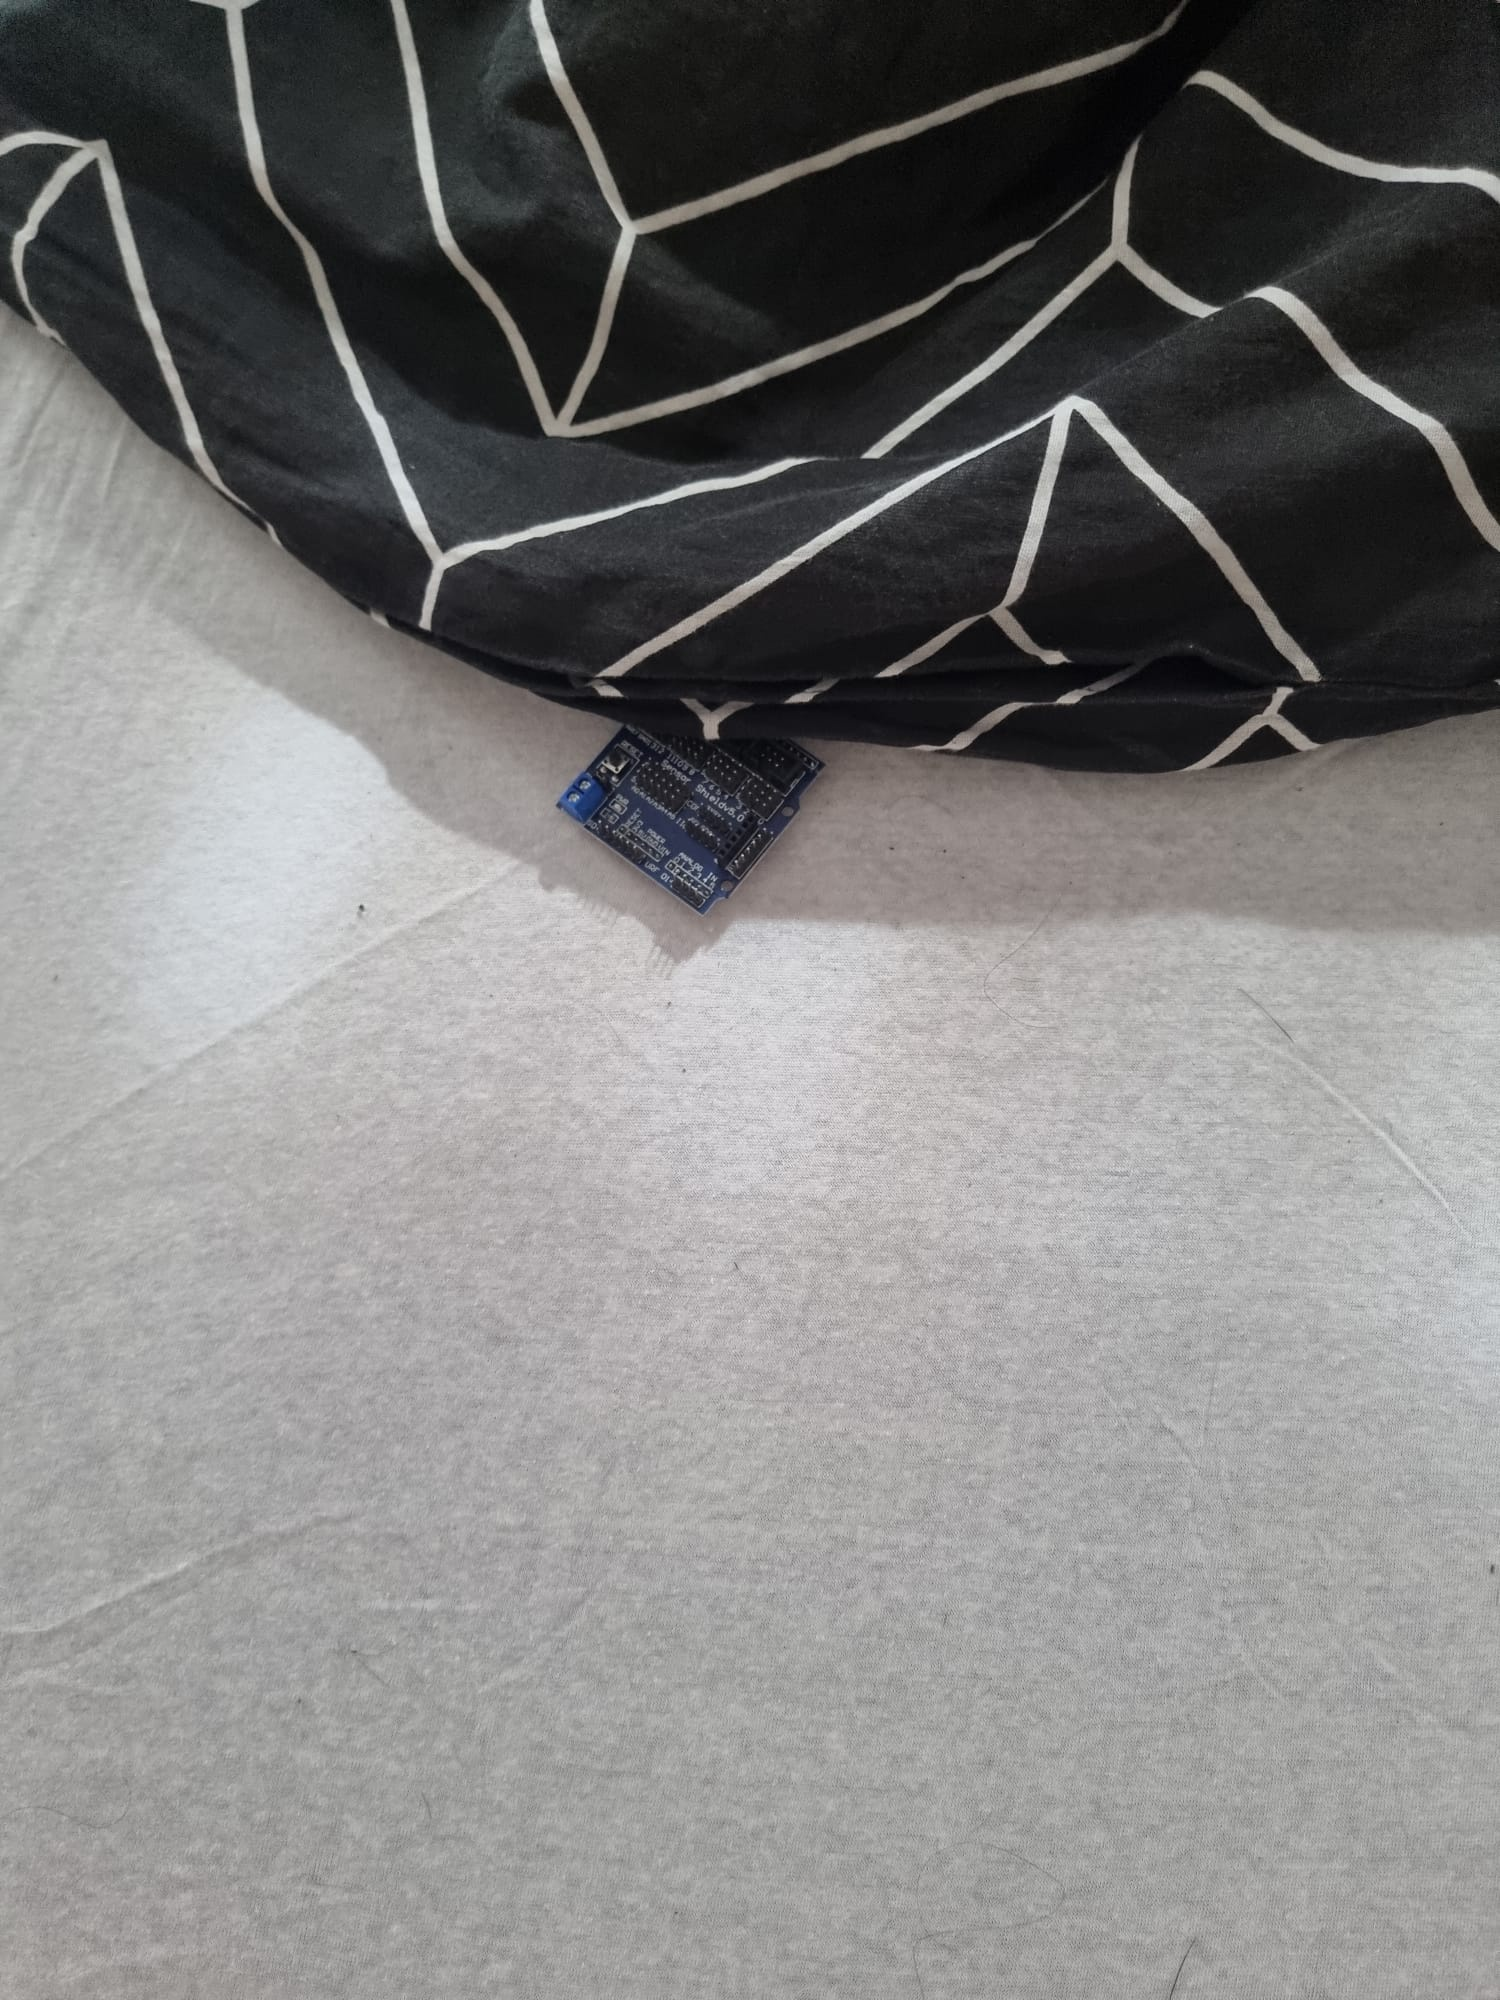5V EXPANSION: (555, 682, 830, 935)
